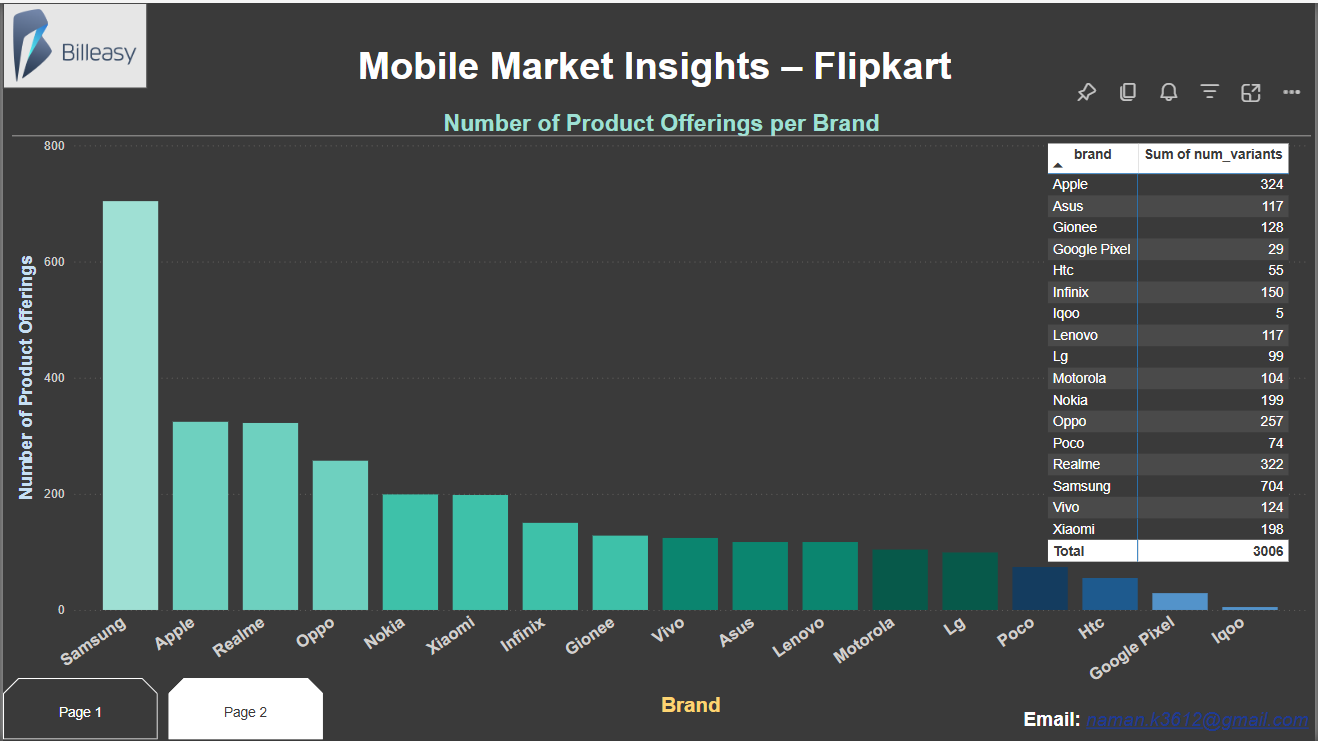

This screenshot's page, from the dashboard's own definition file:
{"tool":"powerbi","page":{"name":"Page 2","canvas":[1280,720],"ordinal":1},"visuals":[{"type":"image","box":[0,0,140.8,83.3],"z":0},{"type":"textbox","box":[975.1,682.9,304.4,36.3],"z":1000},{"type":"textbox","box":[313.4,33.3,655.7,71.2],"z":2000},{"type":"pageNavigator","box":[0,658.7,313.4,60.6],"z":3000},{"type":"columnChart","title":"Number of Product Offerings per Brand","fields":{"Category":["brand_model_summary.brand"],"Y":["Sum(brand_model_summary.num_variants)"]},"box":[9.1,104.5,1267.4,596.6],"z":4000},{"type":"pivotTable","fields":{"Rows":["brand_model_summary.brand"],"Values":["Sum(brand_model_summary.num_variants)"]},"box":[1014.5,131.7,265,478.5],"z":5000}]}

Visuals, with their boxes on the page's 1280x720 design canvas (x1, y1, x2, y2). These are canvas units, not pixel positions in the 1318x741 screenshot, which may show the page scaled, cropped or inside an application window:
image: [0,0,141,83]
textbox: [975,683,1280,719]
textbox: [313,33,969,104]
pageNavigator: [0,659,313,719]
"Number of Product Offerings per Brand" columnChart: [9,104,1276,701]
pivotTable - brand_model_summary.brand x Sum(brand_model_summary.num_variants): [1014,132,1280,610]
